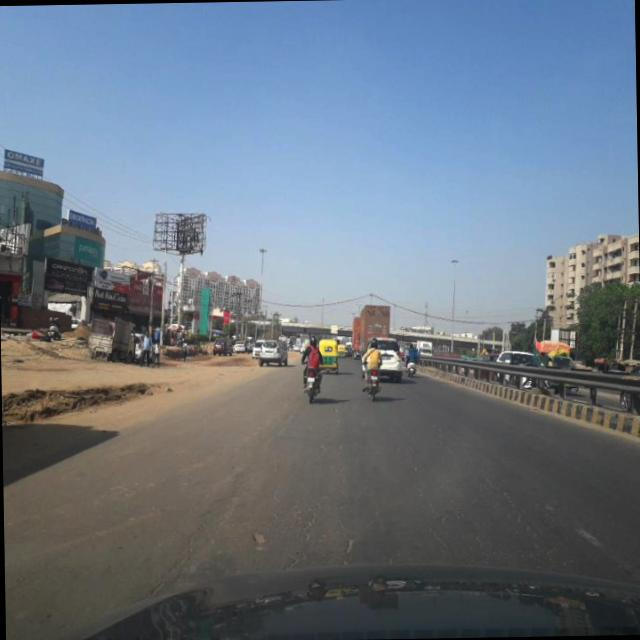crack: (263, 440, 563, 562), (149, 440, 253, 592), (426, 405, 458, 464)
pothole: (241, 521, 267, 555)
